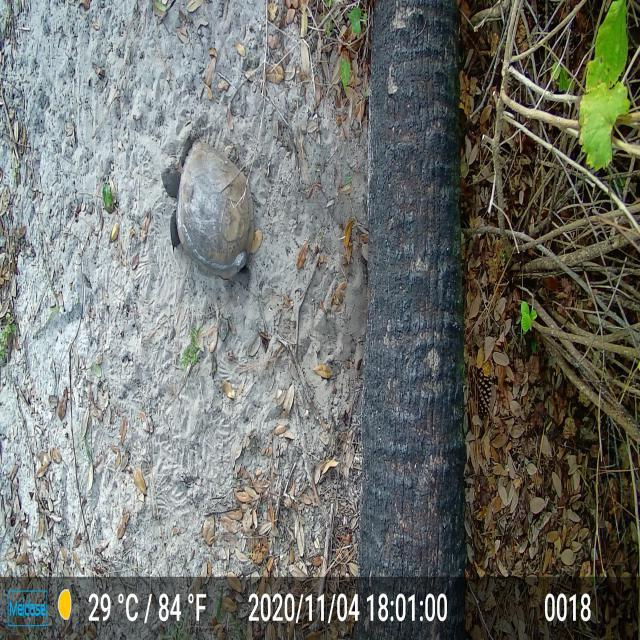tortoise: (158, 125, 260, 299)
